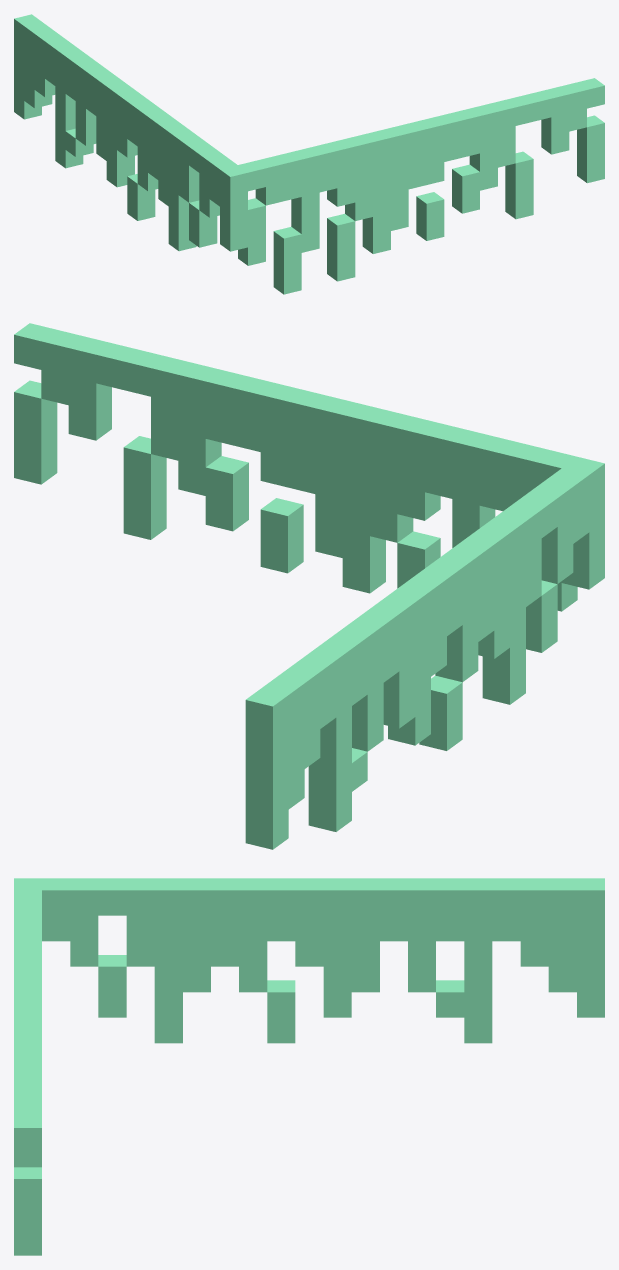
Rendered from LedgeGrassTwoSide.obj.
3 views of the same model, one above another, from view 1: azimuth 30°, elevation 25°; view 2: azimuth 150°, elevation 25°; view 3: azimuth 270°, elevation 25° (orthographic). The views are drawn at different scales.
Bounding box in the file's own units: 2.1 × 0.7 × 2.1.
